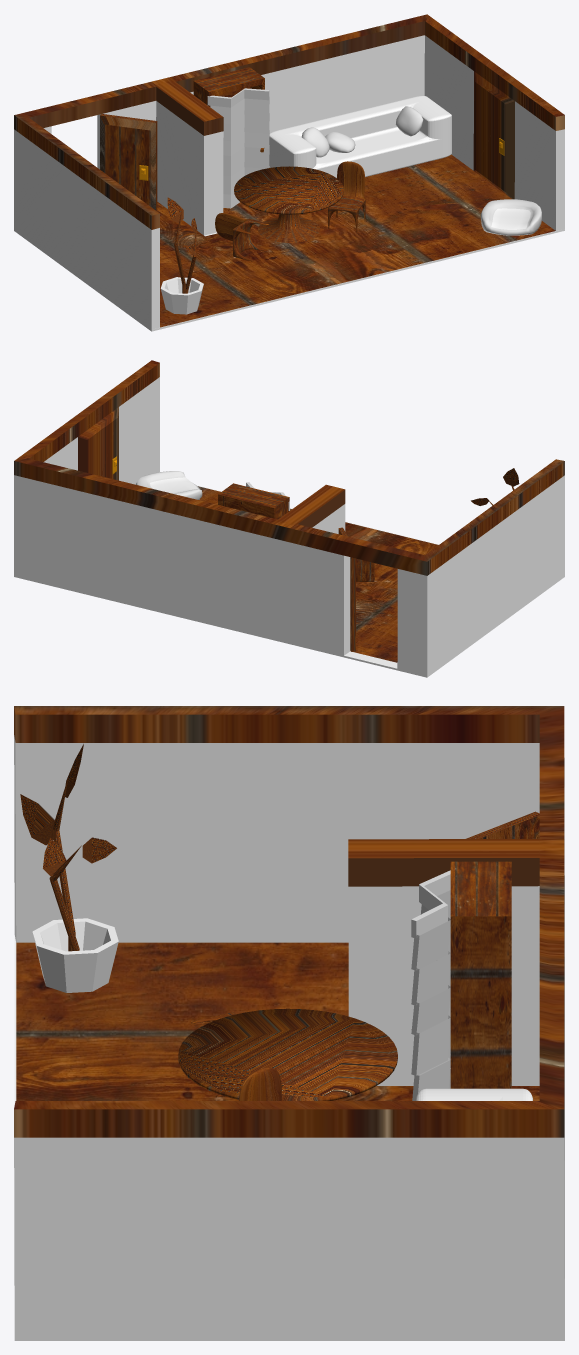
The model's file is sala.glb.
The picture shows the model from 3 angles, top to bottom: view 1: azimuth 30°, elevation 25°; view 2: azimuth 150°, elevation 25°; view 3: azimuth 270°, elevation 25°; orthographic projection. The views are drawn at different scales.
Visible parts, largest first — view 1: Cubo.009, Cubo.013, Círculo_Bezier, Cubo.014, Cubo.010, Cubo.016, Cubo.015, Cubo.017, Cubo.018, Cilindro, Esfera.003, Esfera.002 (+1 smaller); view 2: Cubo.009, Cubo.015, Cubo.016, Cubo.010, Cubo.018; view 3: Cubo.009, Círculo_Bezier, Cubo.015, Cubo.014, Cilindro, Cubo.013, Cubo.017, Cubo.010, Plano.001.
Boxes of the visible parts, x1,y1,x2,y2 form: Cubo.009: (14,14,564,331); Cubo.013: (269,96,451,177); Círculo_Bezier: (234,166,343,242); Cubo.014: (207,88,269,208); Cubo.010: (100,114,157,211); Cubo.016: (481,199,541,235); Cubo.015: (193,67,264,106); Cubo.017: (328,161,365,232); Cubo.018: (215,213,268,261); Cilindro: (160,277,203,314); Esfera.003: (395,106,423,136); Esfera.002: (302,127,329,157); Cubo.009: (14,360,564,677); Cubo.015: (218,483,289,519); Cubo.016: (136,471,202,499); Cubo.010: (338,527,355,651); Cubo.018: (356,558,375,581); Cubo.009: (14,706,564,1340); Círculo_Bezier: (178,1008,397,1100); Cubo.015: (450,861,511,1088); Cubo.014: (411,870,450,1100); Cilindro: (32,918,118,992); Cubo.013: (416,1088,532,1100); Cubo.017: (239,1067,281,1100); Cubo.010: (466,811,539,838); Plano.001: (20,794,56,845).
Bounding box in the file's own units: 28.14 × 7.79 × 16.26.
Materials: 8 (4 with a texture image).
